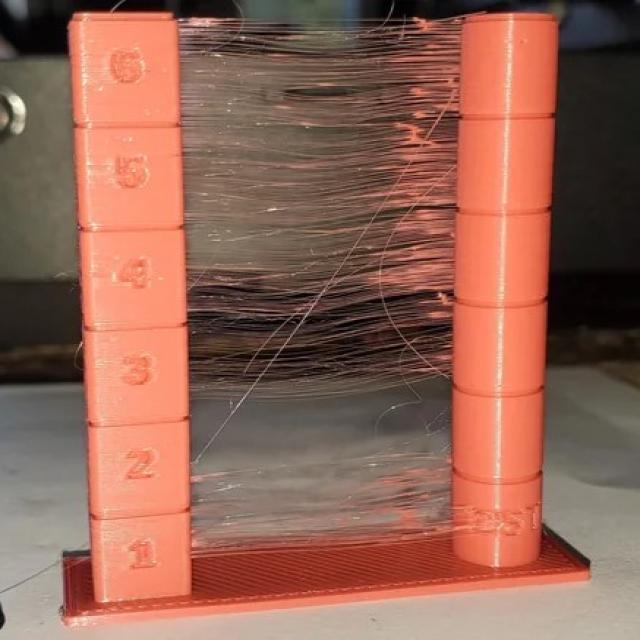stringing: (168, 23, 469, 382), (184, 456, 464, 565)
